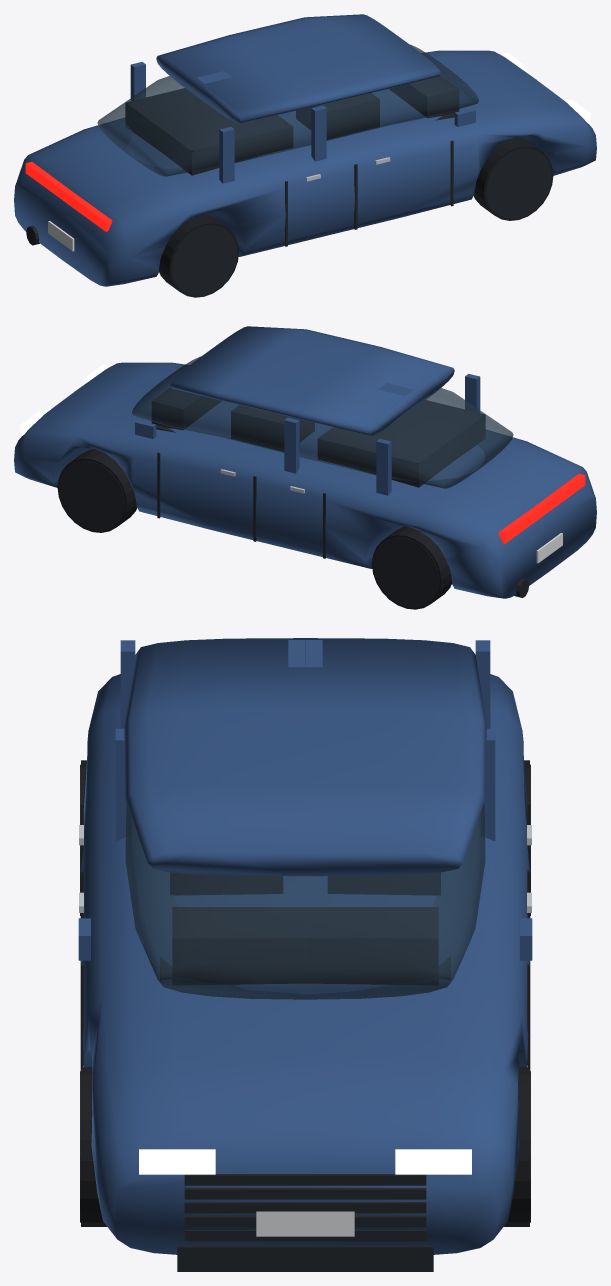
The model's file is sedan.glb.
The picture shows the model from 3 angles, top to bottom: view 1: azimuth 30°, elevation 25°; view 2: azimuth 150°, elevation 25°; view 3: azimuth 270°, elevation 25°; orthographic projection. The views are drawn at different scales.
Parts seen in each view (by area): view 1: VehicleSedan; view 2: VehicleSedan; view 3: VehicleSedan.
Part boxes in pixels (x1,y1,x2,y2): VehicleSedan: (14,14,596,297); VehicleSedan: (14,326,596,609); VehicleSedan: (78,638,532,1271).
Bounding box in the file's own units: 0.461 × 0.145 × 0.184.
